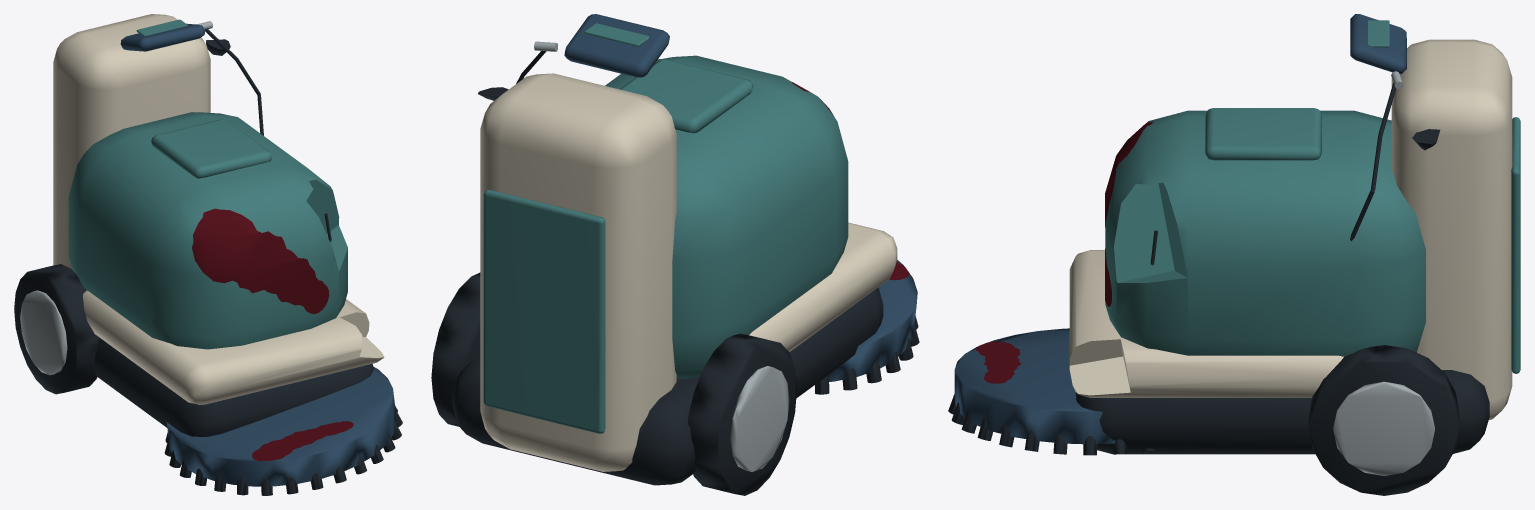
File: floor_scrubber.glb
3 views of the same model, side by side, from view 1: azimuth 30°, elevation 25°; view 2: azimuth 150°, elevation 25°; view 3: azimuth 270°, elevation 25° (orthographic). The views are drawn at different scales.
Parts seen in each view (by area): view 1: OB_FloorScrubber_01_Static; view 2: OB_FloorScrubber_01_Static; view 3: OB_FloorScrubber_01_Static.
Boxes of the visible parts, x1,y1,x2,y2 form: OB_FloorScrubber_01_Static: (14,14,402,495); OB_FloorScrubber_01_Static: (431,14,919,495); OB_FloorScrubber_01_Static: (948,14,1520,495).
Size of the model in its own units: 0.8612 by 1.17 by 1.52.
